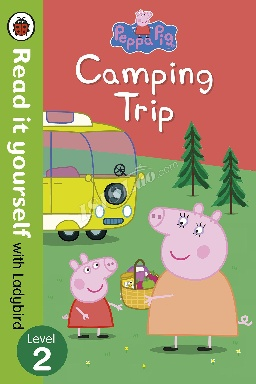Peppa: (61, 252, 126, 339)
